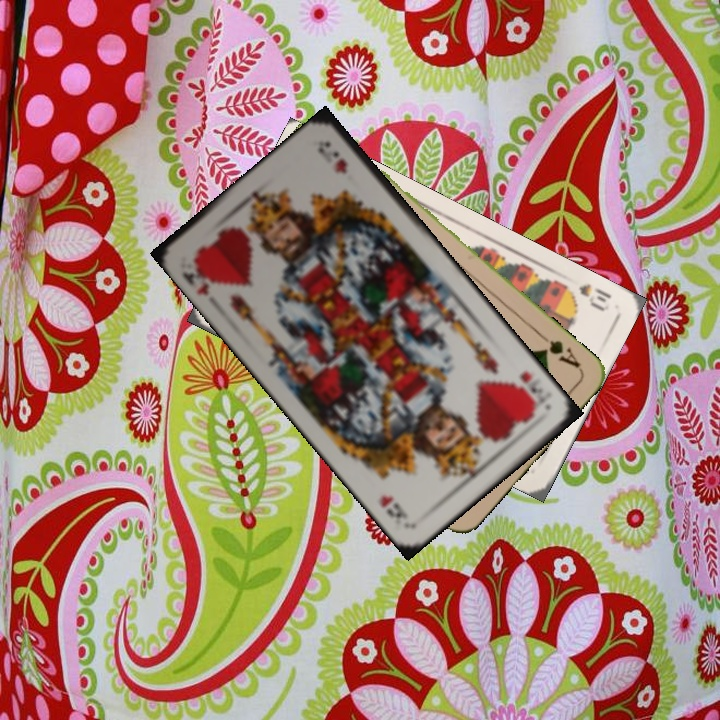GA: (534, 328, 583, 371)
HK: (177, 253, 222, 298), (516, 367, 548, 408)
S10: (559, 279, 614, 315)
